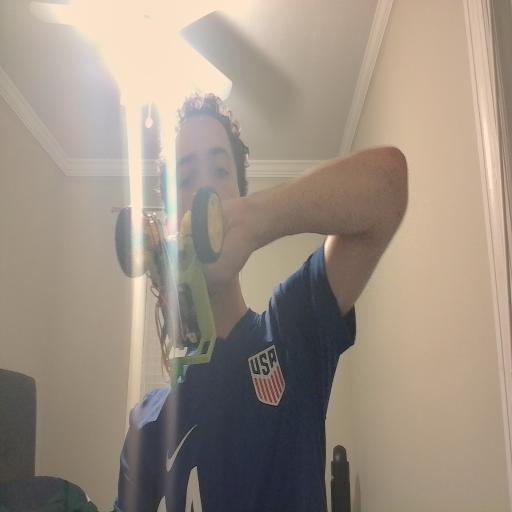green LEGO minifig: (169, 358, 186, 389)
